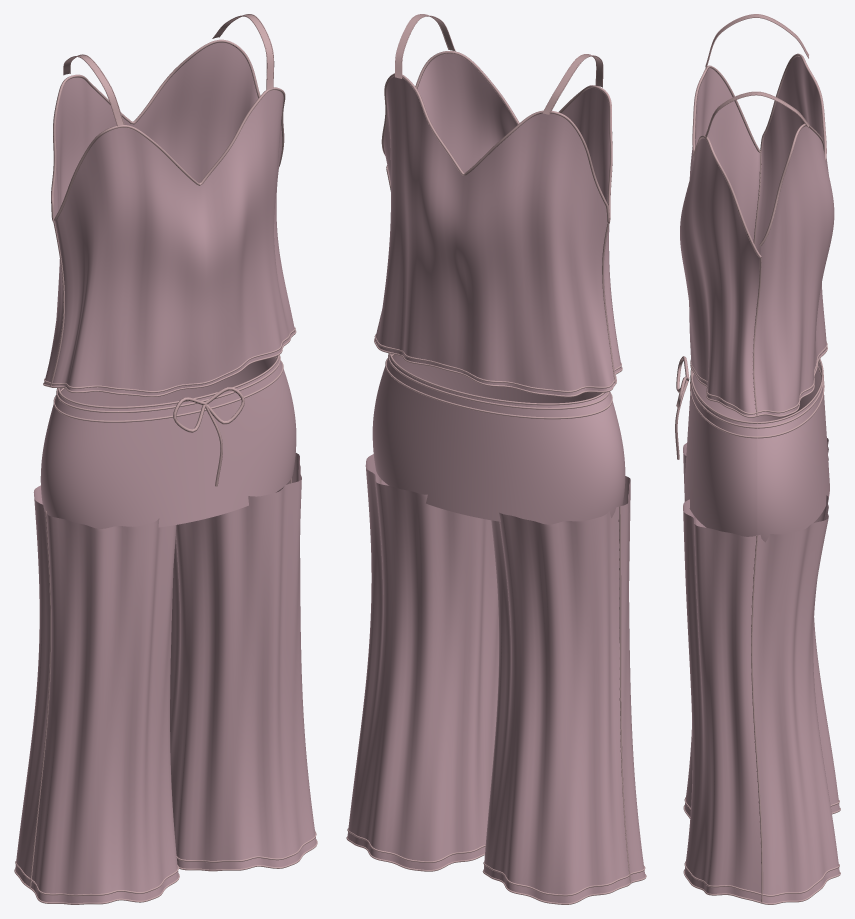
The model's file is flowerlady-satin-reconstruction.glb.
3 renders of one model, left to right at view 1: azimuth 30°, elevation 25°; view 2: azimuth 150°, elevation 25°; view 3: azimuth 270°, elevation 25°, orthographic. The views are drawn at different scales.
Parts seen in each view (by area): view 1: Camisole_draped_shell, Left_trouser_leg, Right_trouser_leg, Trousers_hip_yoke, Bound_neckline, Outer_leg_seam, Elastic_waist_seam, Double_turned_hem; view 2: Camisole_draped_shell, Left_trouser_leg, Right_trouser_leg, Trousers_hip_yoke, Bound_neckline, Elastic_waist_seam (×3), Double_turned_hem (×2), Outer_leg_seam; view 3: Right_trouser_leg, Camisole_draped_shell, Trousers_hip_yoke, Bound_neckline, Left_trouser_leg, Elastic_waist_seam (×3), Double_turned_hem (×2), Outer_leg_seam, Trouser_hem (×2), Side_seam.
Part boxes in pixels (bbox=[...]): Camisole_draped_shell: bbox=[44, 42, 295, 395]; Left_trouser_leg: bbox=[15, 485, 178, 903]; Right_trouser_leg: bbox=[170, 453, 316, 869]; Trousers_hip_yoke: bbox=[40, 356, 296, 528]; Bound_neckline: bbox=[51, 39, 285, 221]; Outer_leg_seam: bbox=[29, 510, 51, 887]; Elastic_waist_seam: bbox=[53, 356, 283, 422]; Double_turned_hem: bbox=[44, 327, 295, 392]; Camisole_draped_shell: bbox=[375, 53, 621, 395]; Left_trouser_leg: bbox=[483, 476, 645, 903]; Right_trouser_leg: bbox=[347, 454, 498, 869]; Trousers_hip_yoke: bbox=[372, 354, 625, 524]; Bound_neckline: bbox=[381, 50, 612, 223]; Elastic_waist_seam (×3): bbox=[385, 353, 612, 419]; Double_turned_hem (×2): bbox=[374, 334, 622, 397]; Outer_leg_seam: bbox=[619, 506, 630, 882]; Right_trouser_leg: bbox=[683, 495, 839, 903]; Camisole_draped_shell: bbox=[680, 56, 834, 415]; Trousers_hip_yoke: bbox=[684, 362, 829, 542]; Bound_neckline: bbox=[692, 53, 826, 257]; Left_trouser_leg: bbox=[683, 438, 839, 816]; Elastic_waist_seam (×3): bbox=[690, 359, 824, 438]; Double_turned_hem (×2): bbox=[690, 342, 827, 417]; Outer_leg_seam: bbox=[751, 535, 763, 902]; Trouser_hem (×2): bbox=[683, 861, 840, 904]; Side_seam: bbox=[753, 257, 761, 415].
Size of the model in its own units: 1.06 by 2.98 by 0.5693.
